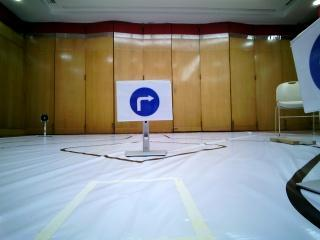right: (118, 81, 171, 122), (307, 19, 319, 113)
